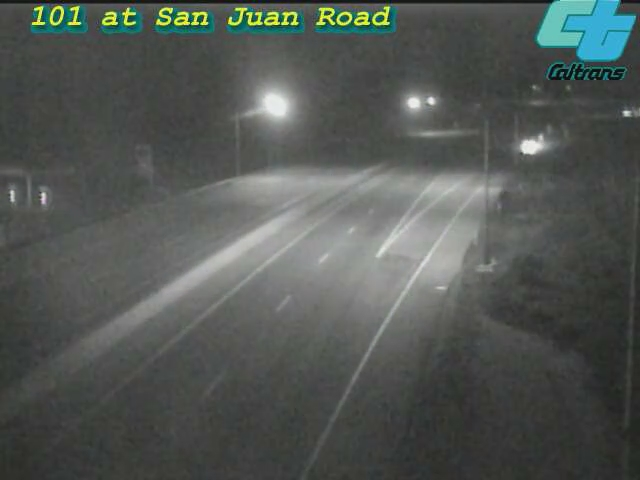vehicle: (506, 122, 556, 172), (603, 88, 640, 138)
